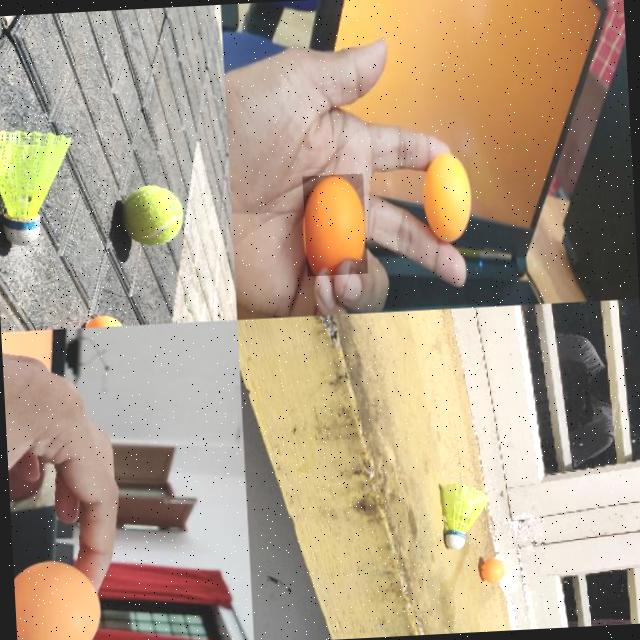ping-pong-ball: (12, 556, 104, 640), (300, 173, 367, 278), (422, 154, 474, 243), (480, 558, 506, 582), (80, 314, 126, 327)
